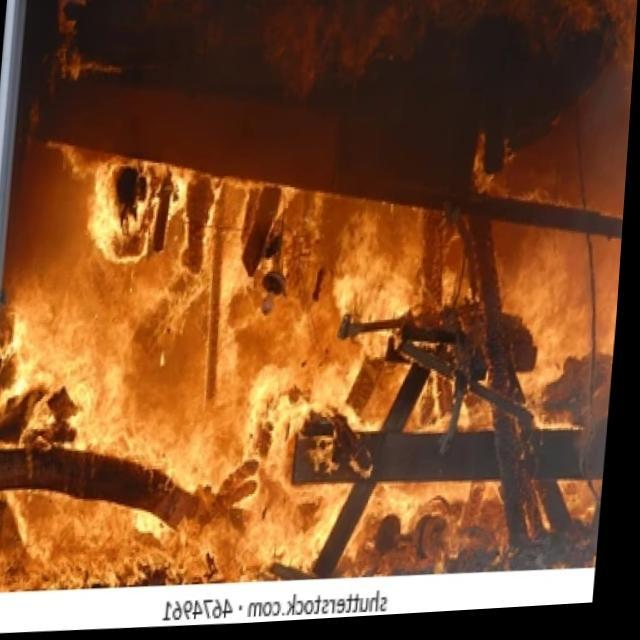fire: (0, 277, 256, 587), (244, 214, 420, 556), (78, 170, 182, 262)
